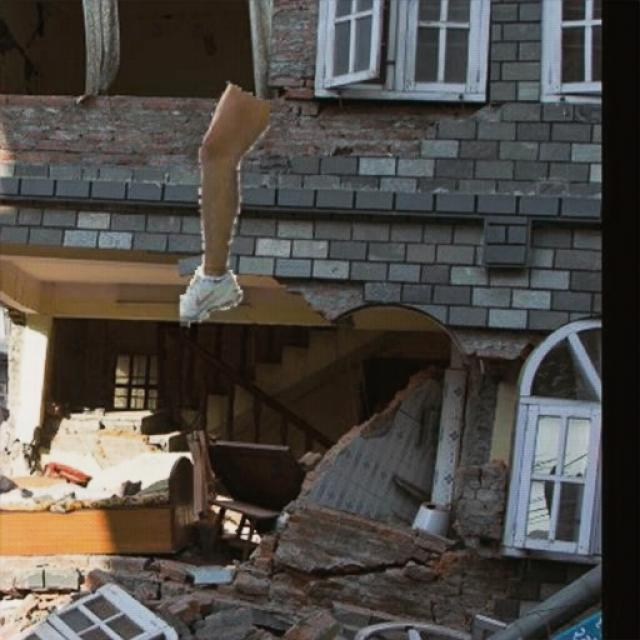Person in Rubble: (180, 81, 269, 328)
